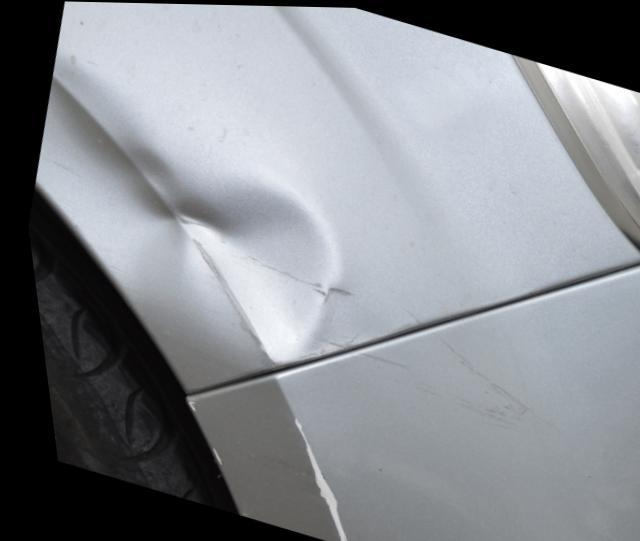dent: (30, 45, 326, 359)
scratch: (278, 415, 341, 541)
